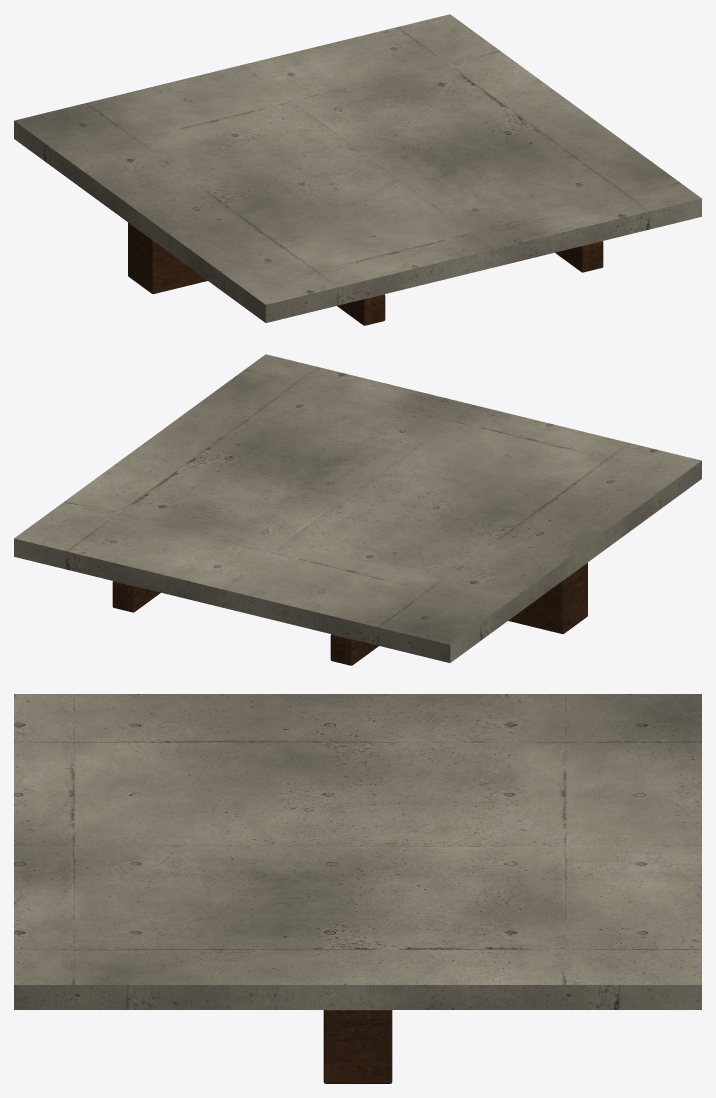
Rendered from Ceiling_Beams.gltf.
The picture shows the model from 3 angles, top to bottom: view 1: azimuth 30°, elevation 25°; view 2: azimuth 150°, elevation 25°; view 3: azimuth 270°, elevation 25°; orthographic projection. The views are drawn at different scales.
Visible parts, largest first — view 1: Ceiling_Beams_Plaster, Ceiling_Beams_Wood; view 2: Ceiling_Beams_Plaster, Ceiling_Beams_Wood; view 3: Ceiling_Beams_Plaster, Ceiling_Beams_Wood.
Part boxes in pixels (x1,y1,x2,y2): Ceiling_Beams_Plaster: (14,14,701,322); Ceiling_Beams_Wood: (128,222,603,325); Ceiling_Beams_Plaster: (14,354,701,662); Ceiling_Beams_Wood: (112,562,587,665); Ceiling_Beams_Plaster: (14,694,701,1009); Ceiling_Beams_Wood: (323,1010,392,1083).
Size of the model in its own units: 2 by 0.32 by 2.
2 materials, 2 textured.
